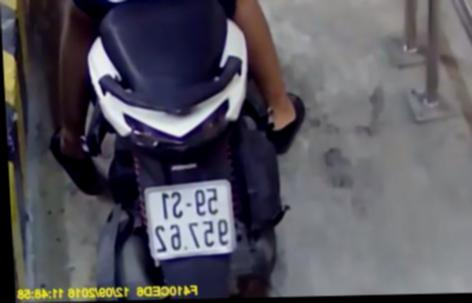License_Plate: (136, 176, 246, 263)
